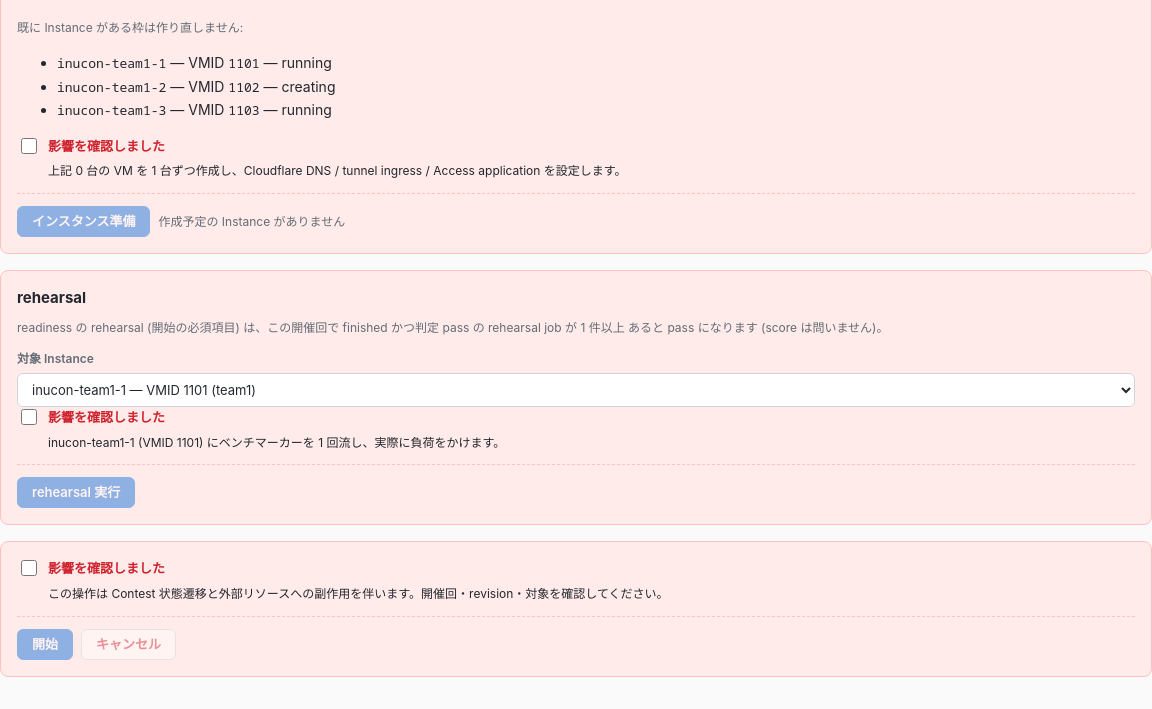
Test: ContestAdmin › Overview の rehearsal › 確認後に対象を変えたら確認し直すまで押せない
(page scrolled)
Click the 2nd checkbox.
click(29, 417)  # box [21,409,37,425]
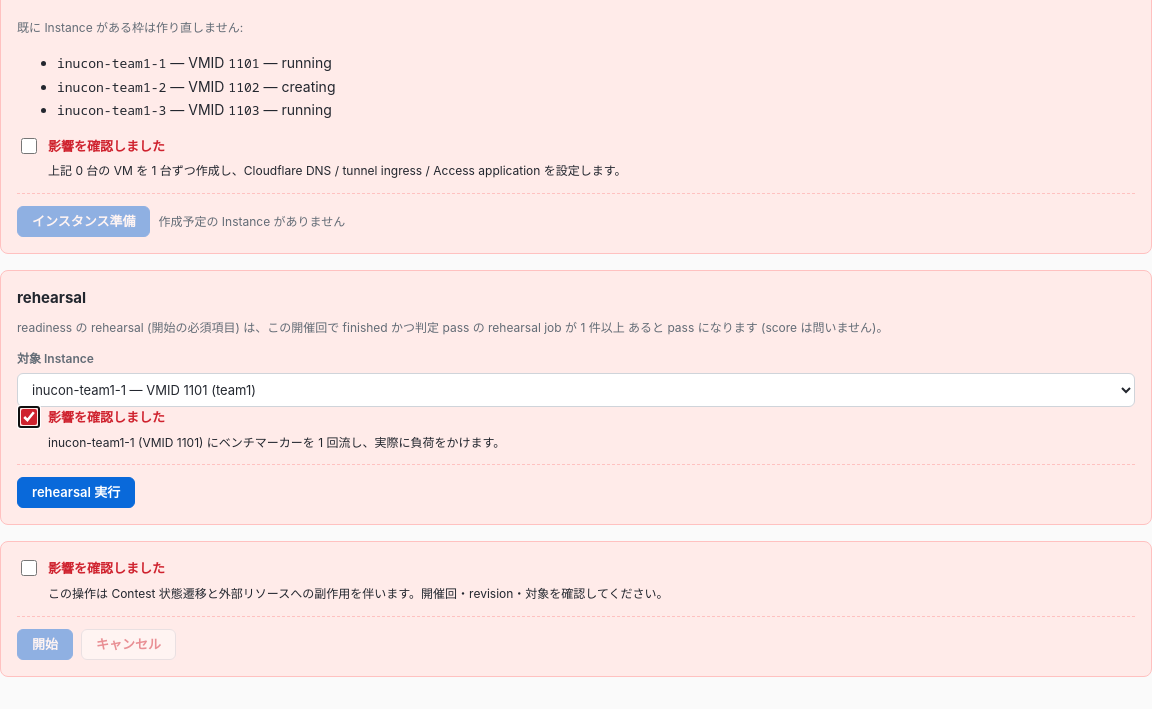
Check: the button "rehearsal 実行" is enabled, box [17,477,135,508]
Select "inucon-team1-3 — VMID 1103 (team1)" in the dropdown labelled "対象 Instance" at (576, 390), box [17,373,1135,407]
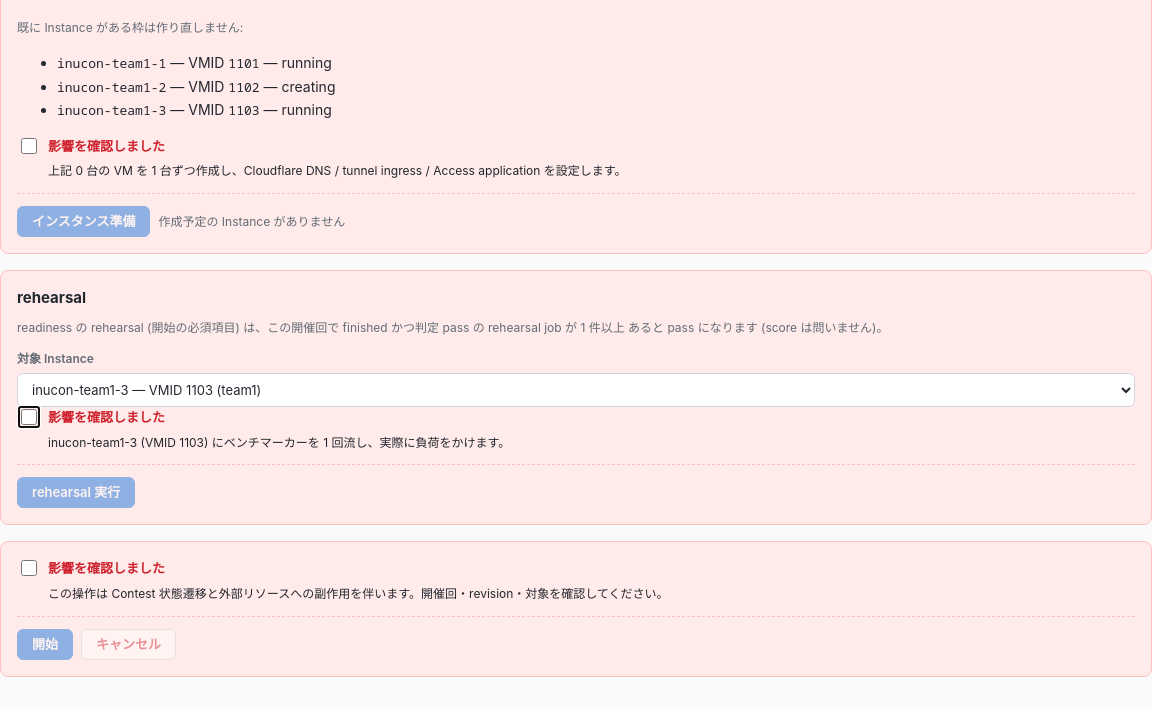
Check: the 2nd checkbox is not checked, box [21,409,37,425]
Check: the button "rehearsal 実行" is disabled, box [17,477,135,508]
